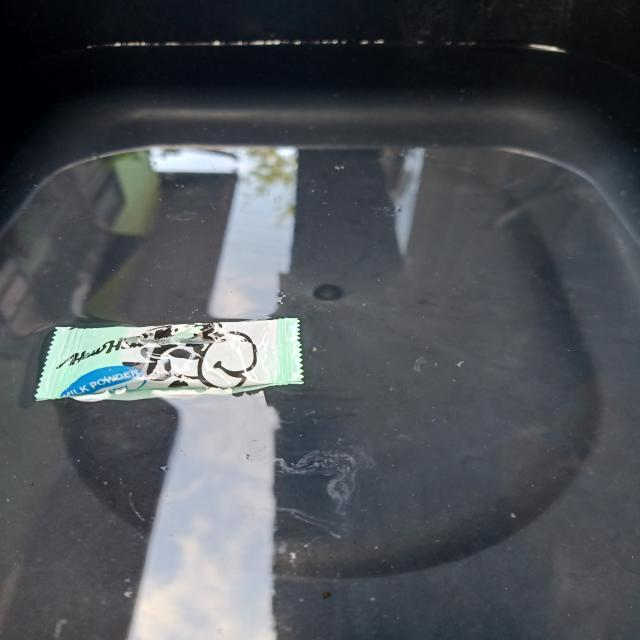Plastic Wrapper: (18, 306, 320, 421)
